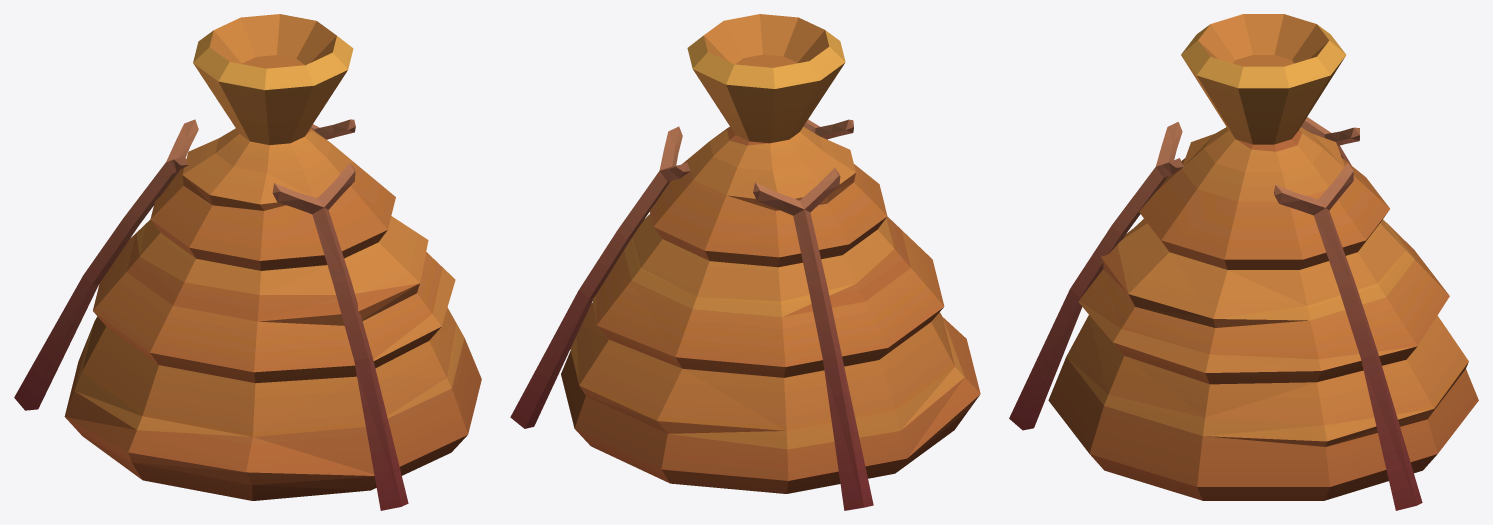
File: hay_1.glb
3 views of the same model, side by side, from view 1: azimuth 30°, elevation 25°; view 2: azimuth 150°, elevation 25°; view 3: azimuth 270°, elevation 25° (orthographic). The views are drawn at different scales.
Parts seen in each view (by area): view 1: hay_1; view 2: hay_1; view 3: hay_1.
Boxes of the visible parts, <box> form: hay_1: <box>14,14,481,510</box>; hay_1: <box>510,14,980,510</box>; hay_1: <box>1009,14,1478,510</box>.
Bounding box in the file's own units: 1.29 × 1.3 × 1.43.
Materials: 1 (1 with a texture image).
